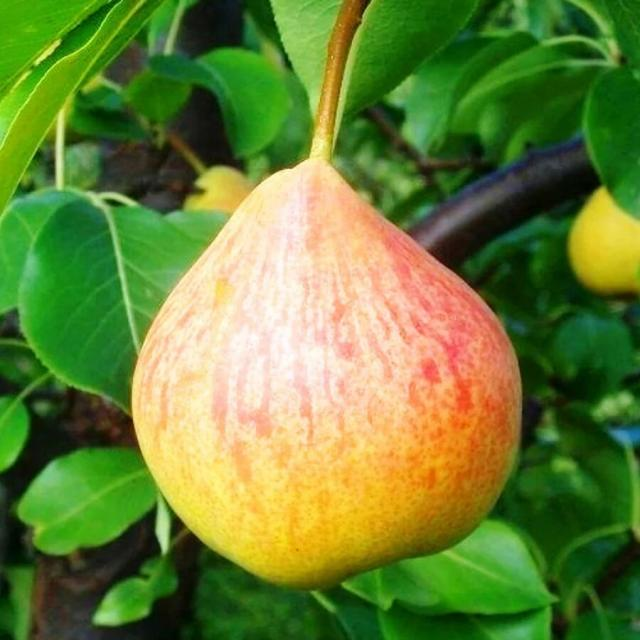pear: (128, 154, 526, 590), (564, 181, 638, 297)
